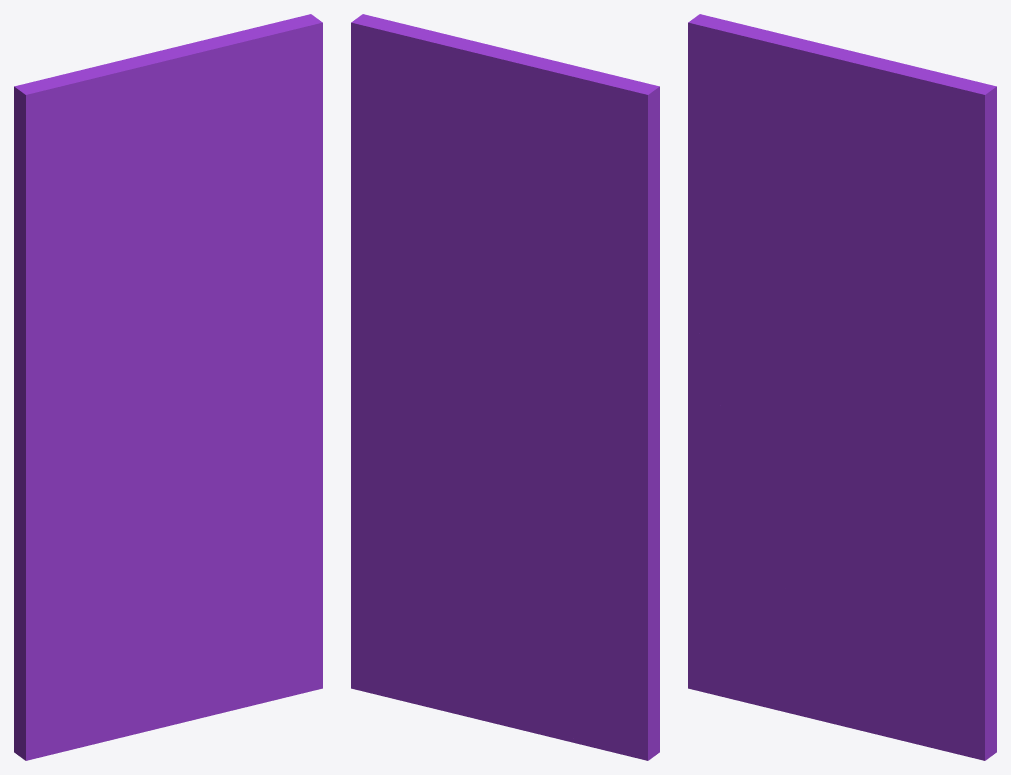
The model's file is Glass_61_chunks.fbx.
3 views of the same model, side by side, from view 1: azimuth 30°, elevation 25°; view 2: azimuth 150°, elevation 25°; view 3: azimuth 330°, elevation 25° (orthographic).
Visible parts, largest first — view 1: Glass_61_0, Glass_61_1, Glass_61_5, Glass_61_6, Glass_61_3, Glass_61_2, Glass_61_4; view 2: Glass_61_0, Glass_61_1, Glass_61_5, Glass_61_3, Glass_61_6, Glass_61_4; view 3: Glass_61_0, Glass_61_1, Glass_61_5, Glass_61_6, Glass_61_3, Glass_61_2, Glass_61_4.
Boxes of the visible parts, x1,y1,x2,y2 form: Glass_61_0: [14, 14, 322, 379]; Glass_61_1: [94, 313, 322, 744]; Glass_61_5: [14, 506, 138, 760]; Glass_61_6: [14, 267, 166, 506]; Glass_61_3: [14, 266, 72, 547]; Glass_61_2: [34, 282, 191, 413]; Glass_61_4: [98, 425, 164, 543]; Glass_61_0: [351, 14, 659, 393]; Glass_61_1: [351, 319, 573, 742]; Glass_61_5: [535, 514, 659, 760]; Glass_61_3: [583, 275, 659, 555]; Glass_61_6: [511, 267, 659, 472]; Glass_61_4: [497, 383, 591, 566]; Glass_61_0: [688, 14, 996, 388]; Glass_61_1: [757, 382, 996, 760]; Glass_61_5: [688, 456, 800, 704]; Glass_61_6: [688, 203, 828, 469]; Glass_61_3: [688, 292, 734, 468]; Glass_61_2: [697, 214, 854, 409]; Glass_61_4: [761, 420, 826, 526].
Bounding box in the file's own units: 398 × 852 × 27.2.
